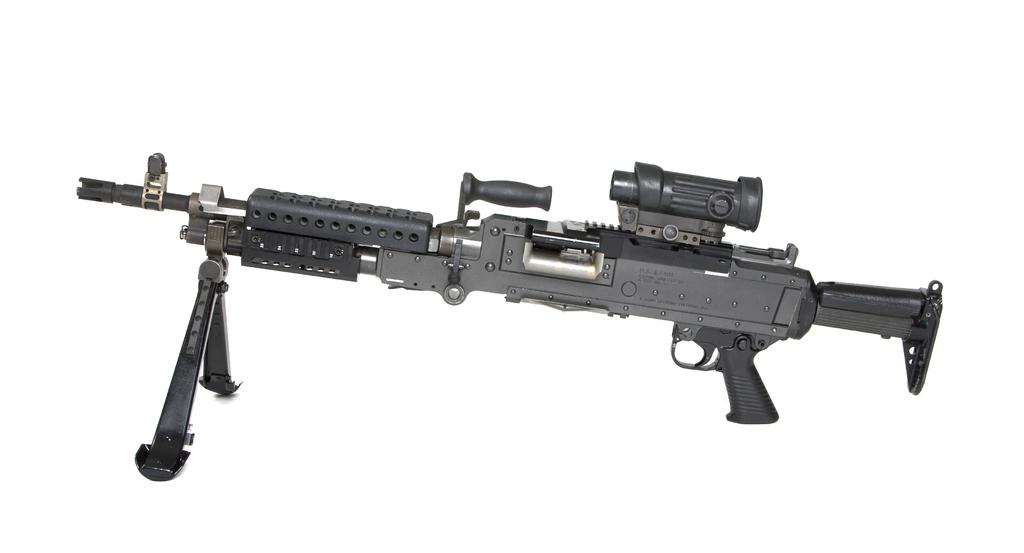Rifle: (77, 163, 941, 476)
